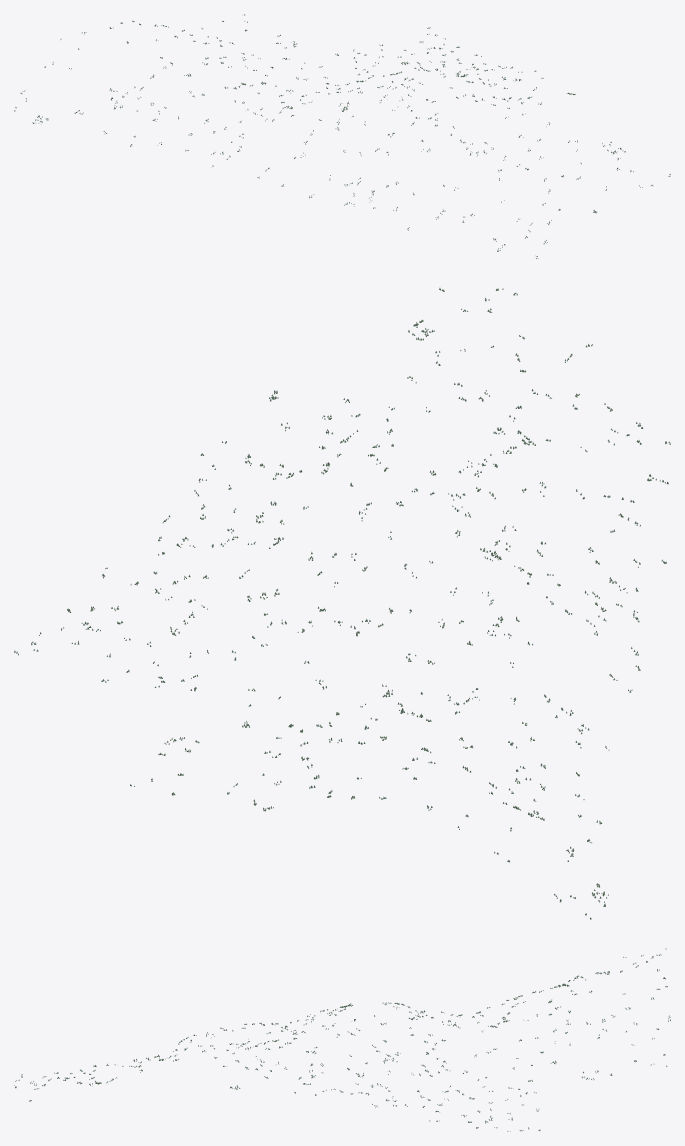
Rendered from SM_AsirMountains_Far_Forest_1.fbx.
3 views of the same model, one above another, from view 1: azimuth 30°, elevation 25°; view 2: azimuth 150°, elevation 25°; view 3: azimuth 270°, elevation 25° (orthographic). The views are drawn at different scales.
Visible parts, largest first — view 1: SM_AsirMountains_Far_Forest_1; view 2: SM_AsirMountains_Far_Forest_1; view 3: SM_AsirMountains_Far_Forest_1.
Boxes of the visible parts, bbox=[...] form: SM_AsirMountains_Far_Forest_1: bbox=[14, 14, 670, 258]; SM_AsirMountains_Far_Forest_1: bbox=[14, 288, 670, 919]; SM_AsirMountains_Far_Forest_1: bbox=[14, 948, 670, 1131].
Size of the model in its own units: 359668 by 69170 by 519942.
